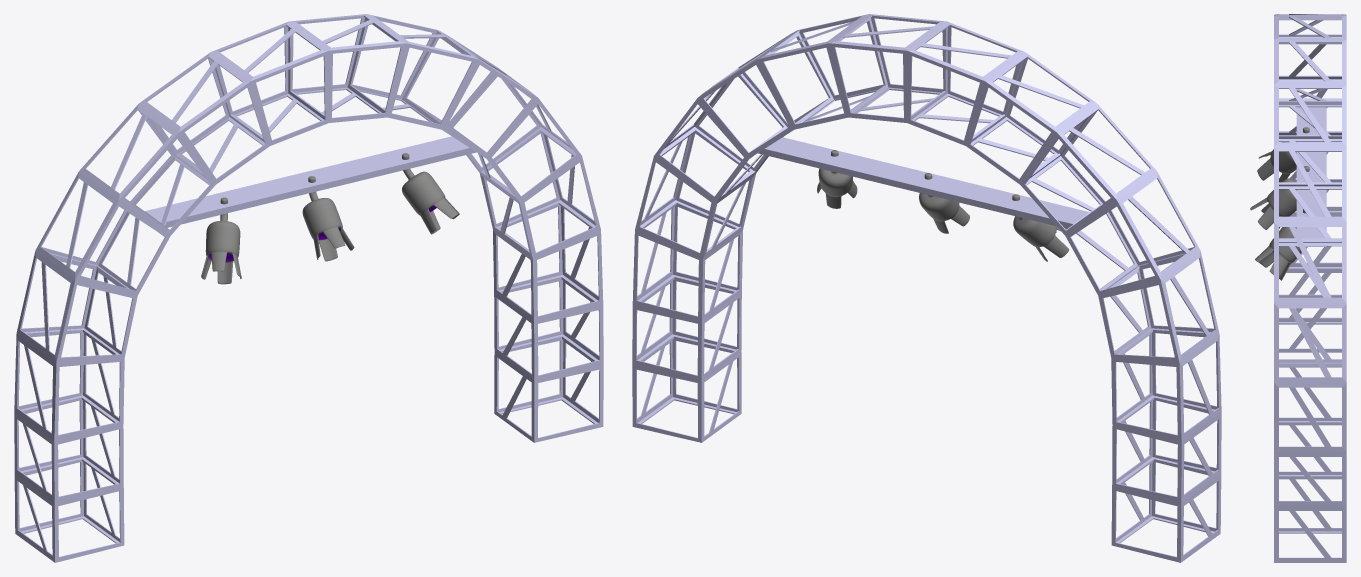
Rendered from Portal.fbx.
The picture shows the model from 3 angles, left to right: view 1: azimuth 30°, elevation 25°; view 2: azimuth 150°, elevation 25°; view 3: azimuth 270°, elevation 25°; orthographic projection. The views are drawn at different scales.
Visible parts, largest first — view 1: Cube.001, Spotlight.003, Spotlight.001, Spotlight.002; view 2: Cube.001, Spotlight.001, Spotlight.003, Spotlight.002; view 3: Cube.001, Spotlight.003, Spotlight.002, Spotlight.001.
Part boxes in pixels (x1,y1,x2,y2): Cube.001: [14, 14, 603, 562]; Spotlight.003: [302, 176, 354, 261]; Spotlight.001: [201, 197, 241, 284]; Spotlight.002: [402, 153, 459, 234]; Cube.001: [632, 14, 1221, 562]; Spotlight.001: [1012, 194, 1069, 261]; Spotlight.003: [919, 173, 969, 233]; Spotlight.002: [817, 150, 857, 208]; Cube.001: [1274, 14, 1346, 562]; Spotlight.003: [1250, 166, 1309, 229]; Spotlight.002: [1255, 209, 1306, 280]; Spotlight.001: [1257, 127, 1309, 182].
Bounding box in the file's own units: 875 × 678 × 146.
